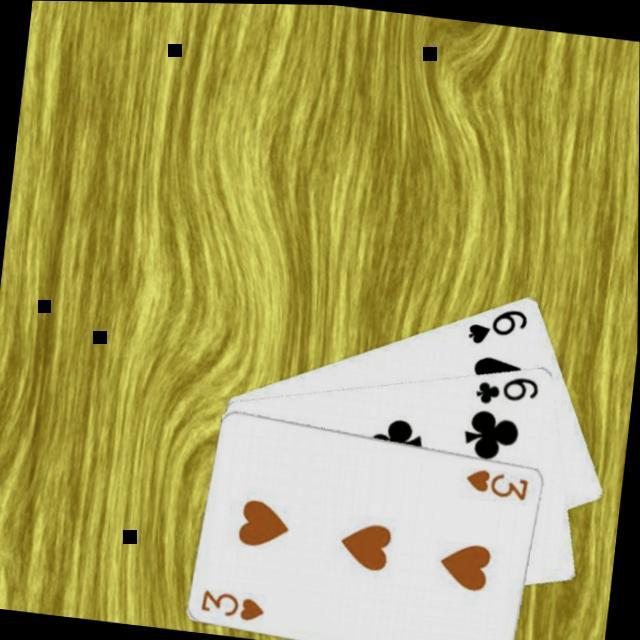3H: (464, 464, 534, 505), (200, 587, 271, 626)
6C: (474, 368, 546, 413)
6S: (466, 301, 534, 352)
